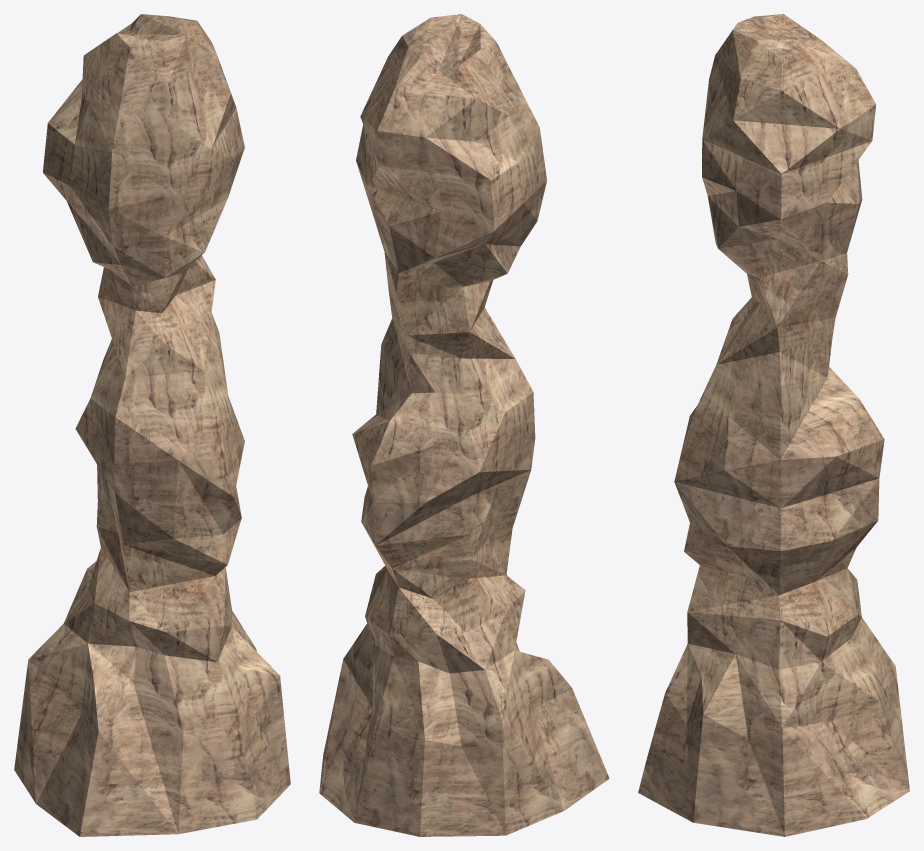
The model's file is rock_tatt_spire_lumpy_a2_l0.fbx.
3 views of the same model, side by side, from view 1: azimuth 30°, elevation 25°; view 2: azimuth 150°, elevation 25°; view 3: azimuth 270°, elevation 25° (orthographic).
Parts seen in each view (by area): view 1: mesh_node; view 2: mesh_node; view 3: mesh_node.
Part boxes in pixels (bbox=[...]): mesh_node: bbox=[14, 14, 290, 836]; mesh_node: bbox=[319, 14, 609, 836]; mesh_node: bbox=[638, 14, 909, 836].
Bounding box in the file's own units: 25.12 × 75.05 × 24.6.
